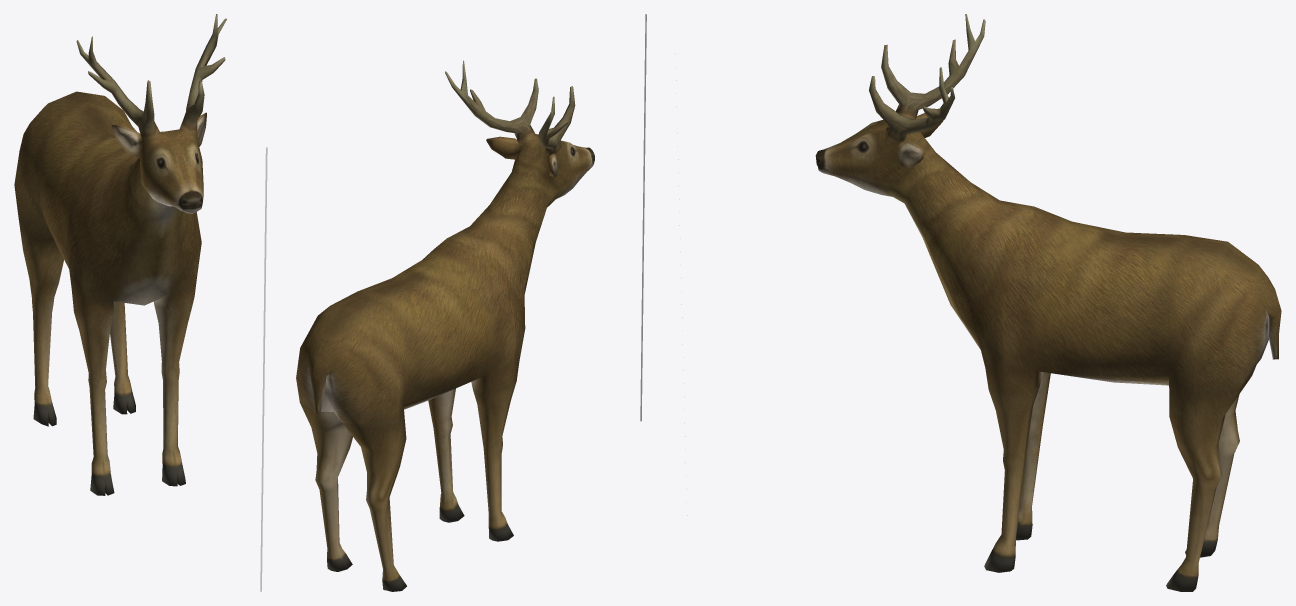
3 renders of one model, left to right at view 1: azimuth 30°, elevation 25°; view 2: azimuth 150°, elevation 25°; view 3: azimuth 270°, elevation 25°, orthographic. The views are drawn at different scales.
Visible parts, largest first — view 1: deer___UN.001, Плоскость; view 2: deer___UN.001, Плоскость; view 3: deer___UN.001.
Part boxes in pixels (bbox=[...]): deer___UN.001: bbox=[14, 14, 226, 495]; Плоскость: bbox=[260, 147, 267, 591]; deer___UN.001: bbox=[296, 60, 594, 591]; Плоскость: bbox=[640, 14, 646, 421]; deer___UN.001: bbox=[815, 14, 1281, 591].
Size of the model in its own units: 12.65 by 34.41 by 37.08.
Materials: 2 (1 with a texture image).
